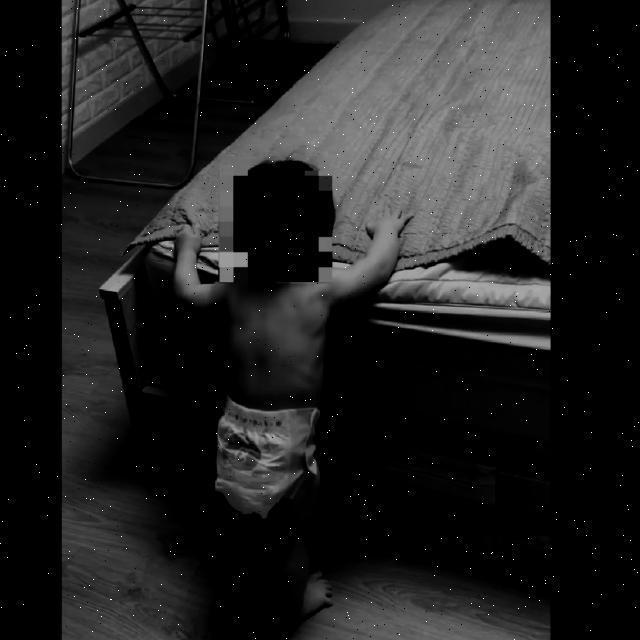child: (170, 158, 403, 636)
